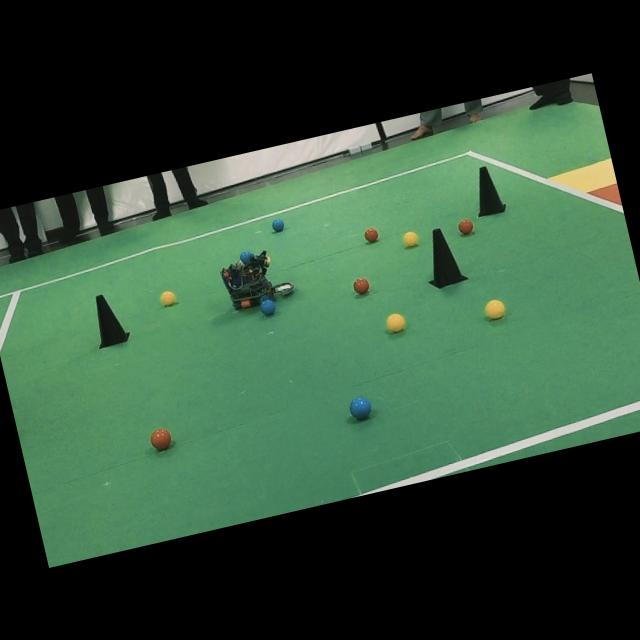ball: (349, 396, 371, 420), (150, 427, 171, 451), (386, 312, 406, 332), (484, 299, 505, 318), (353, 278, 370, 294), (159, 290, 176, 306), (260, 299, 275, 316), (458, 218, 473, 234), (403, 231, 418, 247), (364, 227, 379, 242), (239, 250, 253, 264), (272, 218, 283, 231)
goal: (548, 158, 616, 192), (589, 182, 622, 205)
